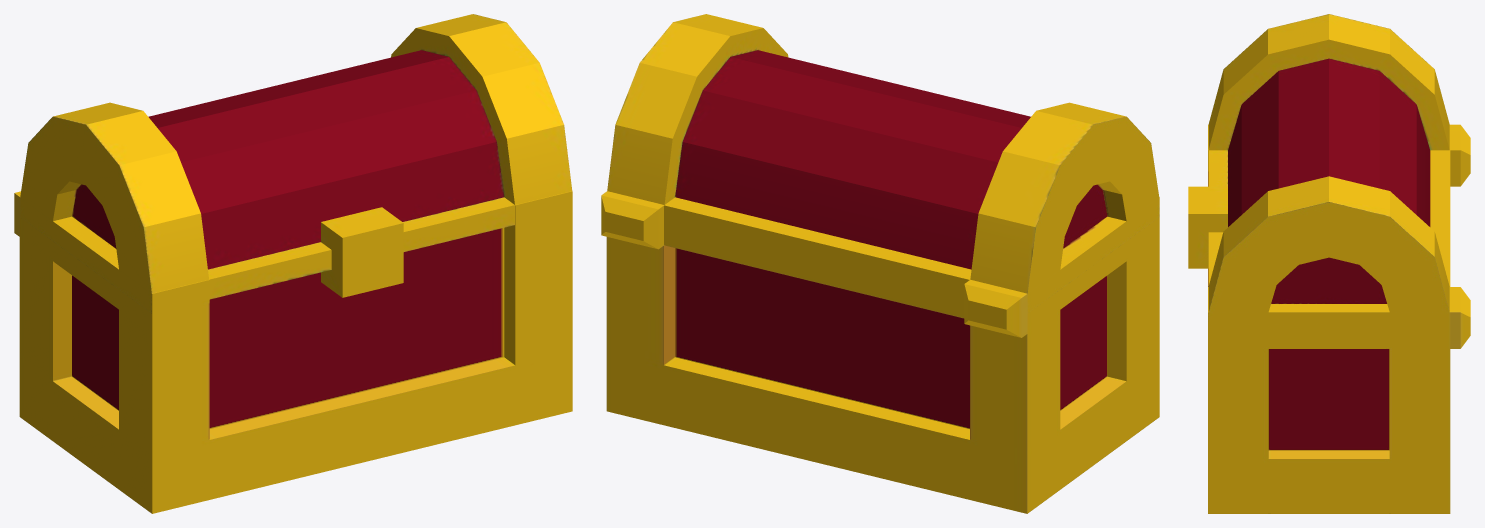
Rendered from Chest Asset.fbx.
The picture shows the model from 3 angles, left to right: view 1: azimuth 30°, elevation 25°; view 2: azimuth 150°, elevation 25°; view 3: azimuth 270°, elevation 25°; orthographic projection. The views are drawn at different scales.
Parts seen in each view (by area): view 1: pCube1, pCylinder1; view 2: pCube1, pCylinder1; view 3: pCylinder1, pCube1.
Boxes of the visible parts, left/top/right/bottom form: pCube1: left=14, top=191, right=572, bottom=513; pCylinder1: left=20, top=14, right=572, bottom=313; pCube1: left=601, top=191, right=1159, bottom=513; pCylinder1: left=607, top=14, right=1159, bottom=313; pCylinder1: left=1188, top=14, right=1449, bottom=327; pCube1: left=1208, top=124, right=1470, bottom=513.
Size of the model in its own units: 2.2 by 1.7 by 1.4.
2 materials, 2 textured.
